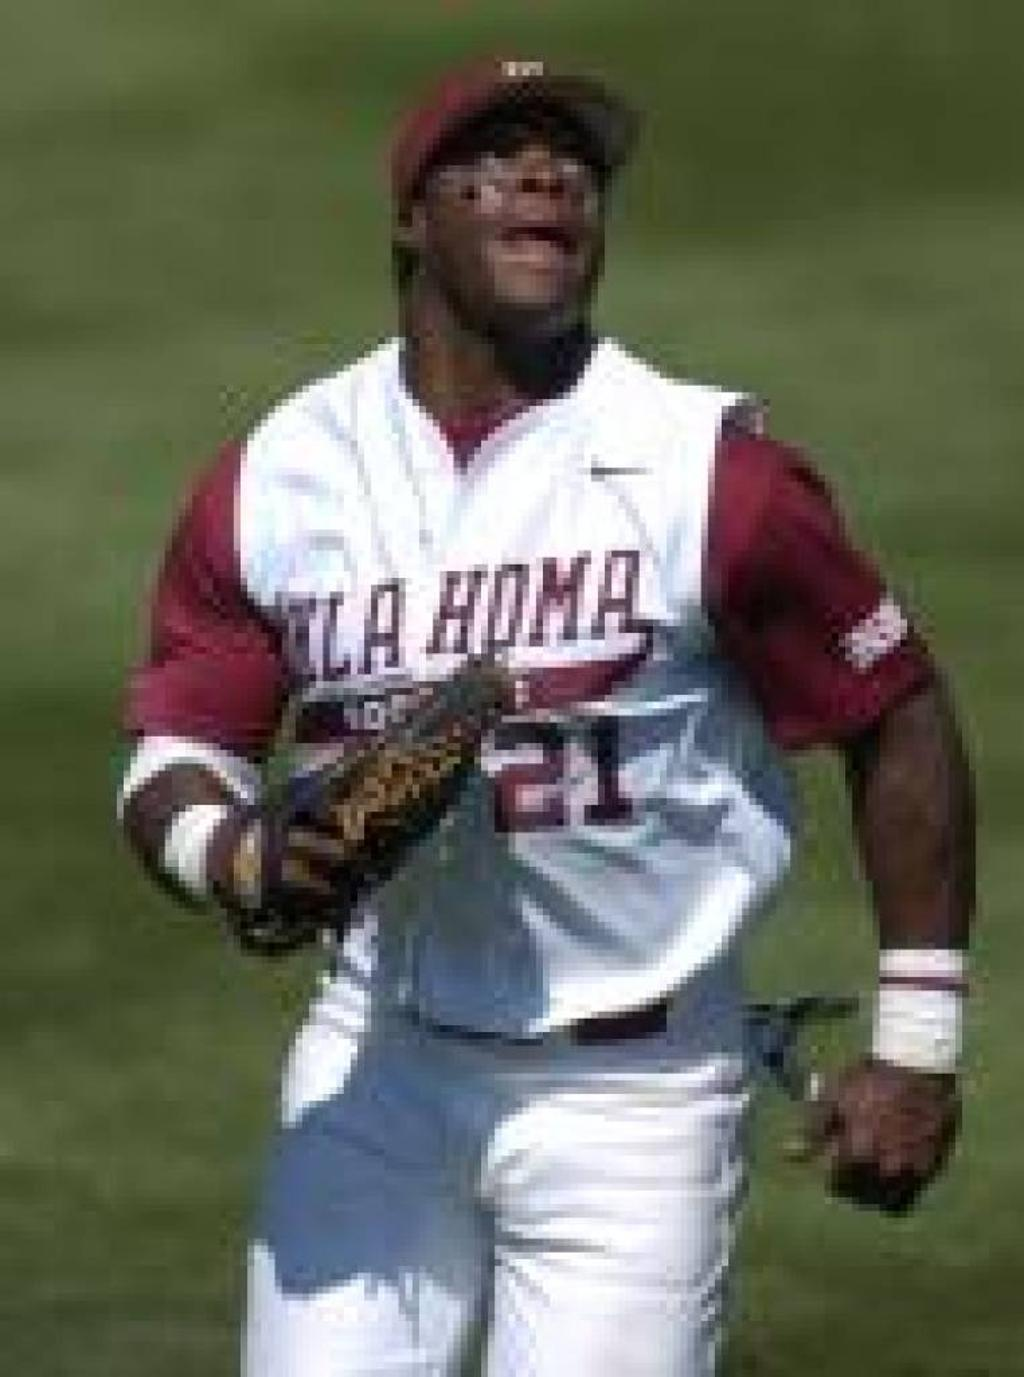face: (434, 68, 611, 326)
